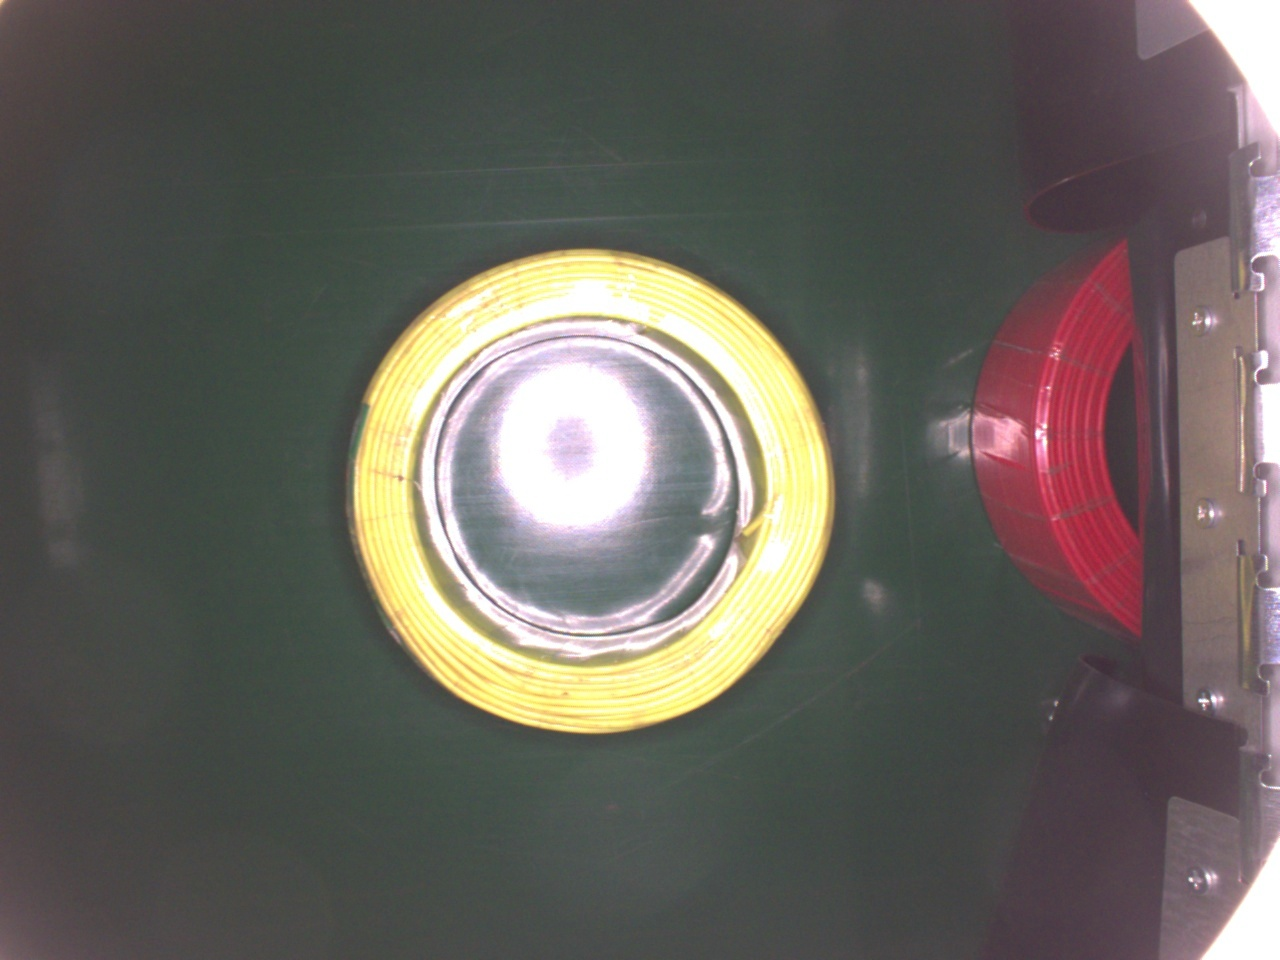red: (970, 222, 1152, 649)
yellow: (343, 246, 837, 735)
